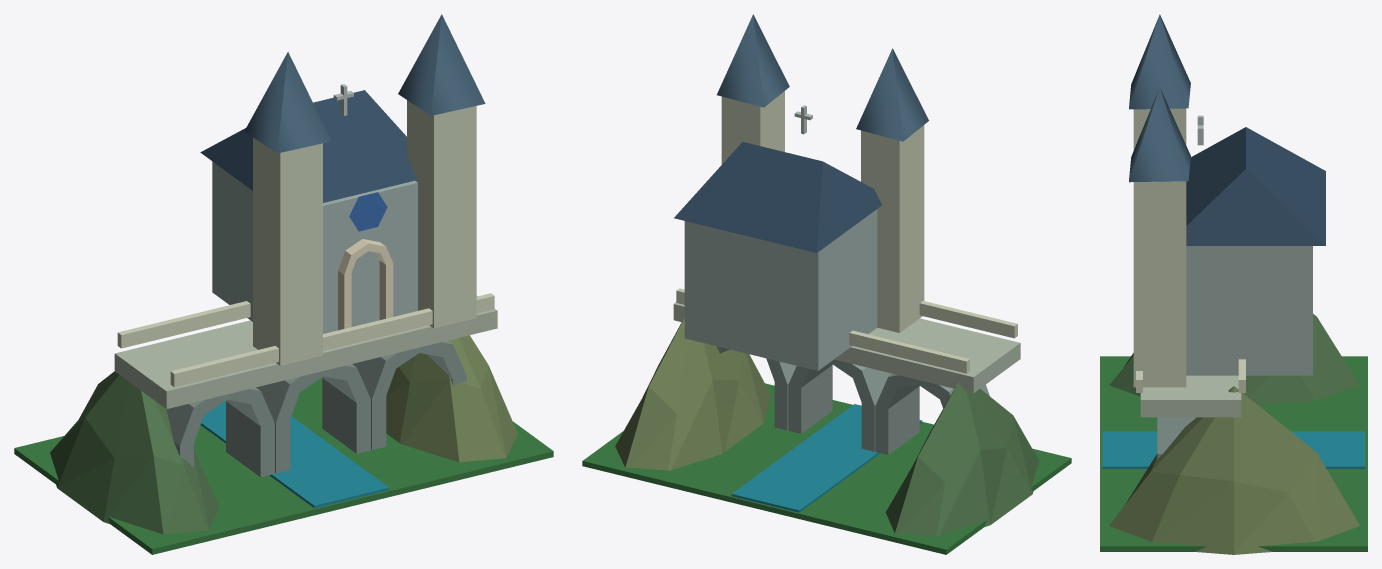
The model's file is las-lajas-sanctuary.glb.
3 renders of one model, left to right at view 1: azimuth 30°, elevation 25°; view 2: azimuth 150°, elevation 25°; view 3: azimuth 270°, elevation 25°, orthographic. The views are drawn at different scales.
Visible parts, largest first — view 1: towers_C6C8B7, base_7B8770, base, bridge_A6AA9A, body_B6BCAD, bridge_BBBCAA, base_8A8D74, roof_616F66, roof, bridge_C3C7B6, river_608E96, body_DADACA (+1 smaller); view 2: body_B6BCAD, base, base_7B8770, base_8A8D74, roof_616F66, towers_C6C8B7, bridge_A6AA9A, roof, river_608E96, bridge_BBBCAA, bridge_C3C7B6; view 3: base_8A8D74, body_B6BCAD, roof_616F66, base, towers_C6C8B7, roof, base_7B8770, river_608E96, bridge_BBBCAA, bridge_A6AA9A, bridge_C3C7B6.
Boxes of the visible parts, bbox=[...] form: towers_C6C8B7: bbox=[253, 100, 476, 365]; base_7B8770: bbox=[50, 371, 219, 534]; base: bbox=[14, 377, 553, 554]; bridge_A6AA9A: bbox=[166, 340, 466, 477]; body_B6BCAD: bbox=[212, 161, 417, 333]; bridge_BBBCAA: bbox=[114, 295, 497, 409]; base_8A8D74: bbox=[386, 335, 517, 462]; roof_616F66: bbox=[200, 90, 416, 202]; roof: bbox=[244, 14, 485, 153]; bridge_C3C7B6: bbox=[117, 293, 494, 387]; river_608E96: bbox=[200, 401, 389, 508]; body_DADACA: bbox=[338, 239, 393, 330]; body_B6BCAD: bbox=[684, 209, 877, 370]; base: bbox=[582, 383, 1071, 554]; base_7B8770: bbox=[885, 381, 1039, 535]; base_8A8D74: bbox=[615, 318, 771, 470]; roof_616F66: bbox=[674, 142, 881, 252]; towers_C6C8B7: bbox=[721, 91, 924, 332]; bridge_A6AA9A: bbox=[717, 346, 989, 454]; roof: bbox=[717, 14, 928, 141]; river_608E96: bbox=[731, 404, 922, 512]; bridge_BBBCAA: bbox=[673, 302, 1020, 393]; bridge_C3C7B6: bbox=[676, 288, 1017, 373]; base_8A8D74: bbox=[1109, 386, 1359, 554]; body_B6BCAD: bbox=[1186, 246, 1312, 375]; roof_616F66: bbox=[1186, 127, 1325, 245]; base: bbox=[1100, 356, 1367, 551]; towers_C6C8B7: bbox=[1133, 108, 1186, 387]; roof: bbox=[1129, 14, 1190, 182]; base_7B8770: bbox=[1109, 314, 1359, 404]; river_608E96: bbox=[1102, 431, 1365, 468]; bridge_BBBCAA: bbox=[1140, 375, 1241, 417]; bridge_A6AA9A: bbox=[1157, 417, 1195, 458]; bridge_C3C7B6: bbox=[1136, 359, 1245, 392].
Size of the model in its own units: 1 by 1.02 by 0.5822.
